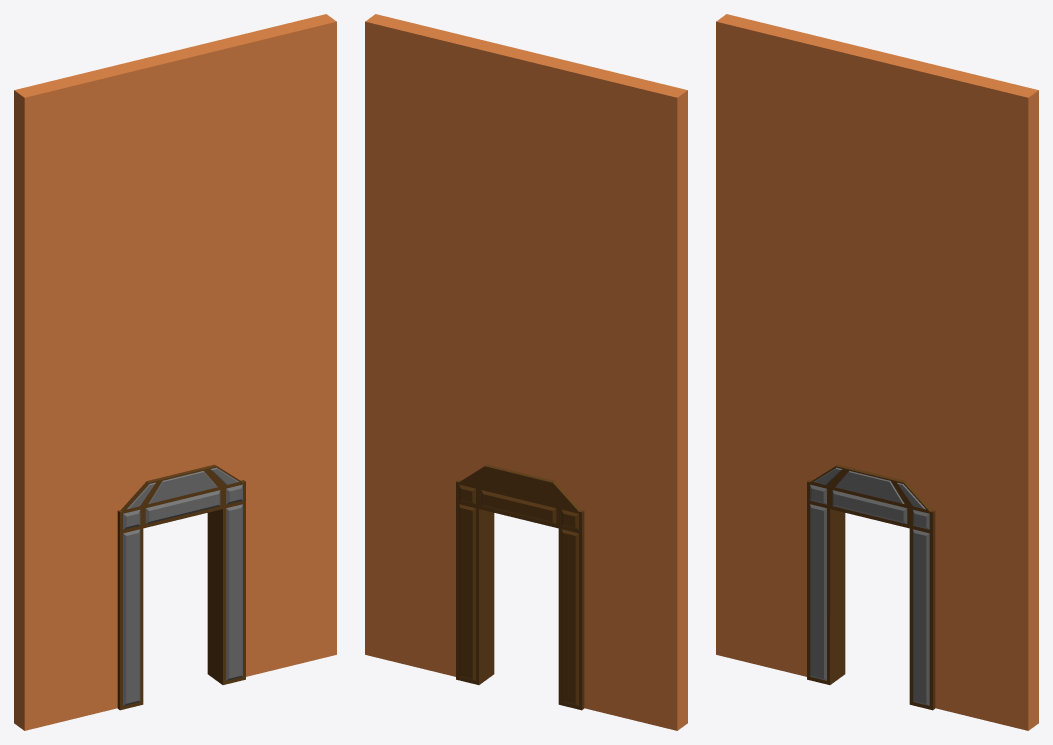
Rendered from bigDoorFrameWithWall.fbx.
3 renders of one model, left to right at view 1: azimuth 30°, elevation 25°; view 2: azimuth 150°, elevation 25°; view 3: azimuth 330°, elevation 25°, orthographic.
Visible parts, largest first — view 1: Wall - Big Door, Big Door Frame; view 2: Wall - Big Door, Big Door Frame; view 3: Wall - Big Door, Big Door Frame.
Part boxes in pixels (x1,y1,x2,y2): Wall - Big Door: [14, 14, 336, 730]; Big Door Frame: [117, 464, 245, 710]; Wall - Big Door: [365, 14, 687, 730]; Big Door Frame: [456, 464, 584, 710]; Wall - Big Door: [716, 14, 1038, 730]; Big Door Frame: [807, 464, 935, 710].
Size of the model in its own units: 607 by 58 by 1177.
